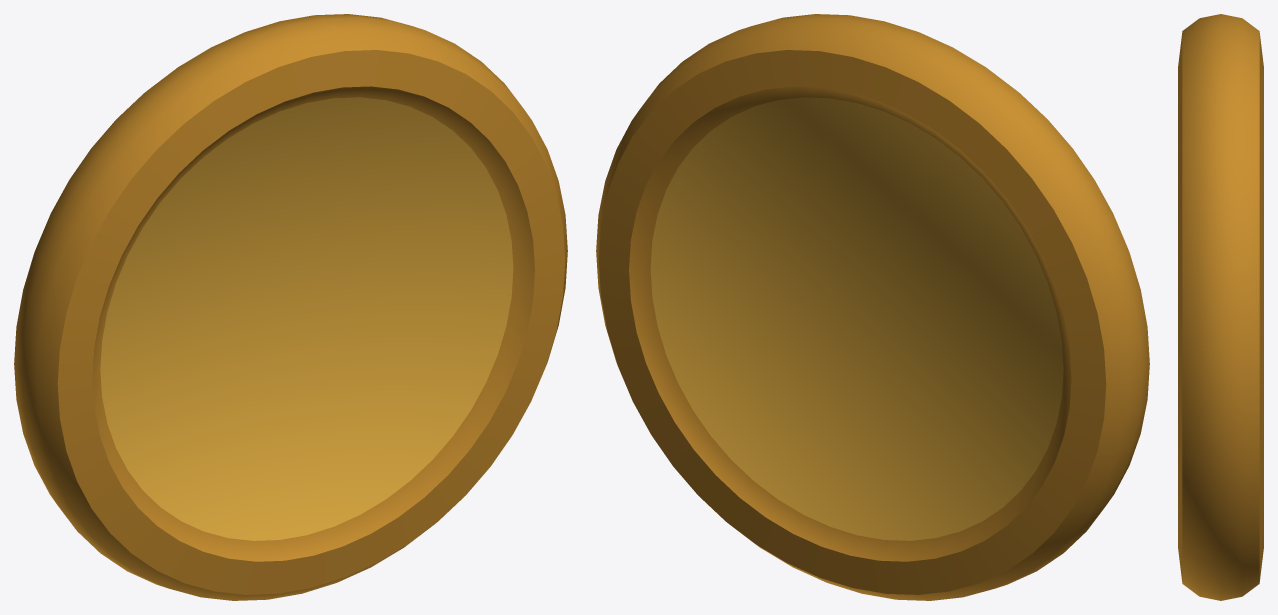
The model's file is vessel_medal.glb.
3 views of the same model, side by side, from view 1: azimuth 30°, elevation 25°; view 2: azimuth 150°, elevation 25°; view 3: azimuth 270°, elevation 25° (orthographic). The views are drawn at different scales.
Parts seen in each view (by area): view 1: Medal; view 2: Medal; view 3: Medal.
Boxes of the visible parts, left/top/right/bottom form: Medal: left=14, top=14, right=567, bottom=600; Medal: left=596, top=14, right=1149, bottom=600; Medal: left=1178, top=14, right=1263, bottom=600.
Bounding box in the file's own units: 0.548 × 0.548 × 0.08.
